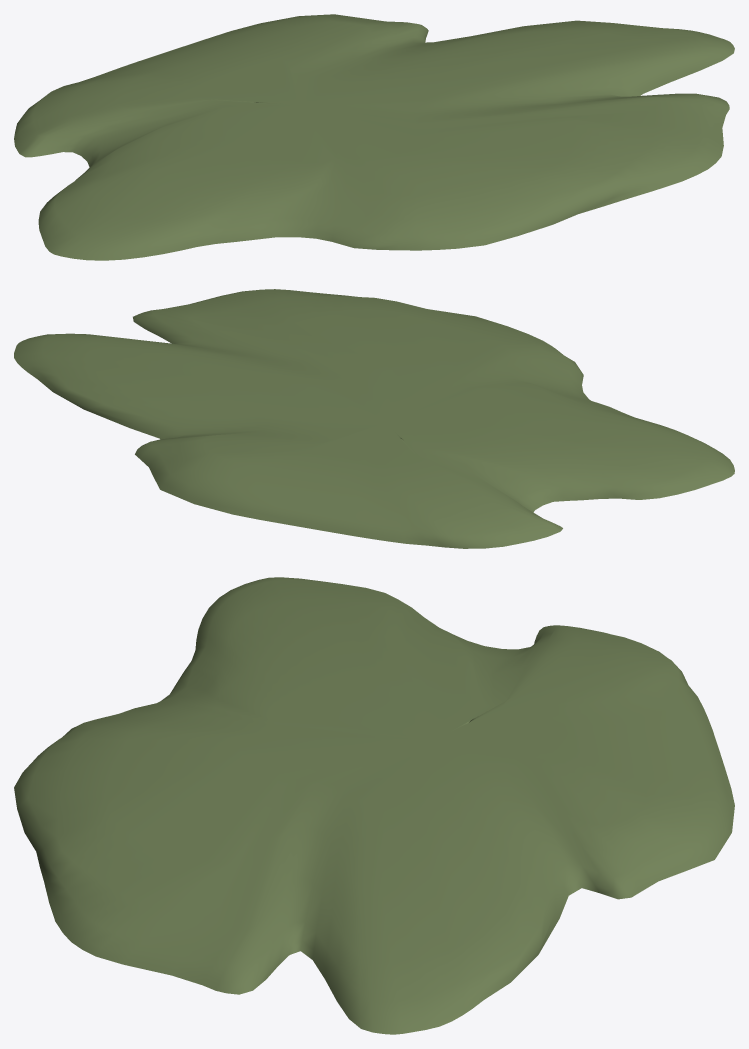
The model's file is Slime3.fbx.
3 renders of one model, top to bottom at view 1: azimuth 30°, elevation 25°; view 2: azimuth 150°, elevation 25°; view 3: azimuth 270°, elevation 25°, orthographic. The views are drawn at different scales.
Parts seen in each view (by area): view 1: slime3; view 2: slime3; view 3: slime3.
Boxes of the visible parts, x1=… form: slime3: x1=14, y1=14, x2=734, y2=260; slime3: x1=14, y1=289, x2=734, y2=548; slime3: x1=14, y1=577, x2=734, y2=1034.
Bounding box in the file's own units: 3.1 × 0.1071 × 2.07.
